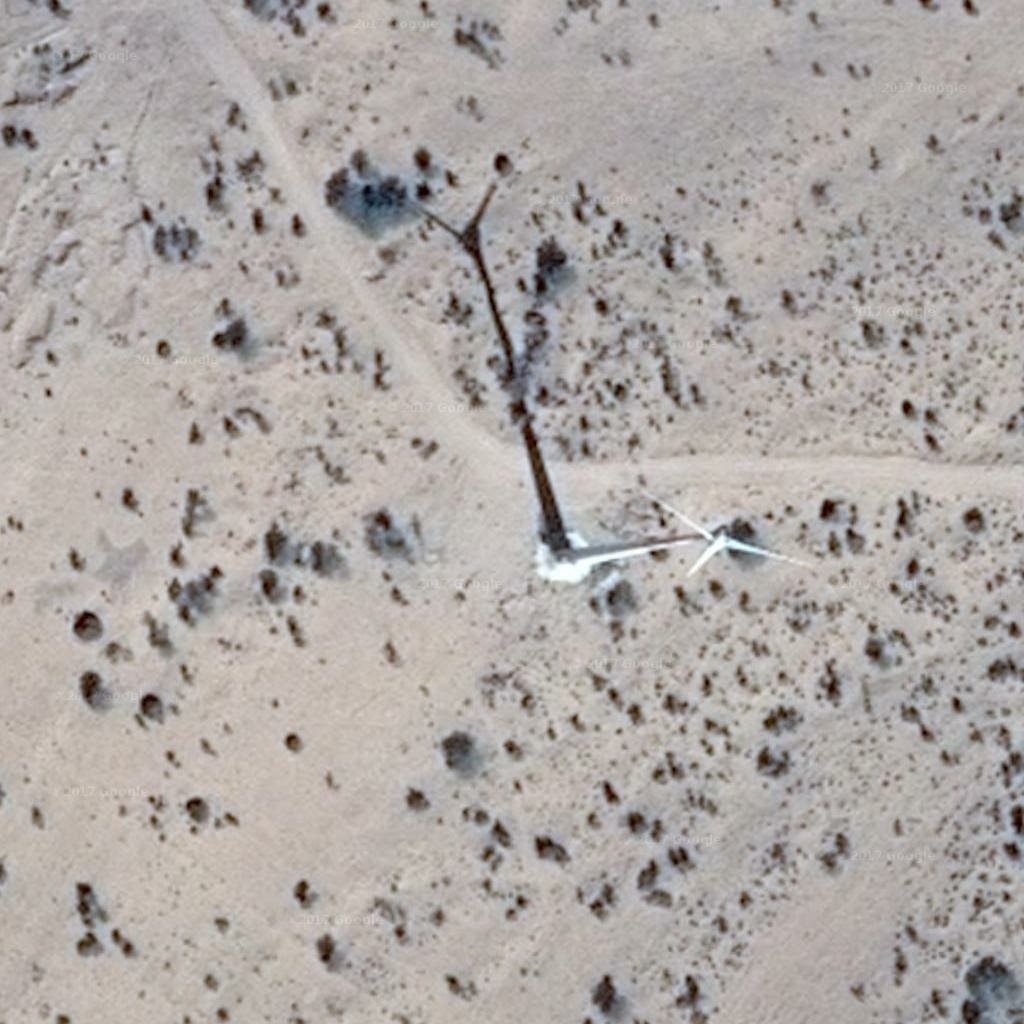Windmill: (382, 183, 596, 553)
